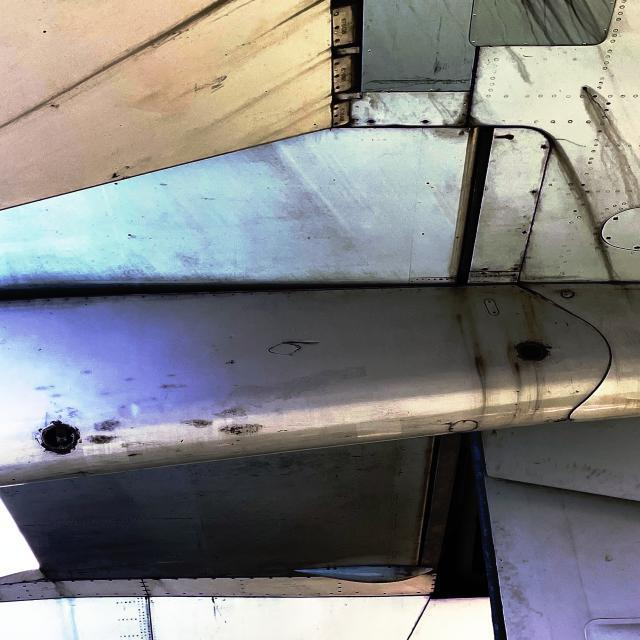crack: (283, 338, 333, 350)
